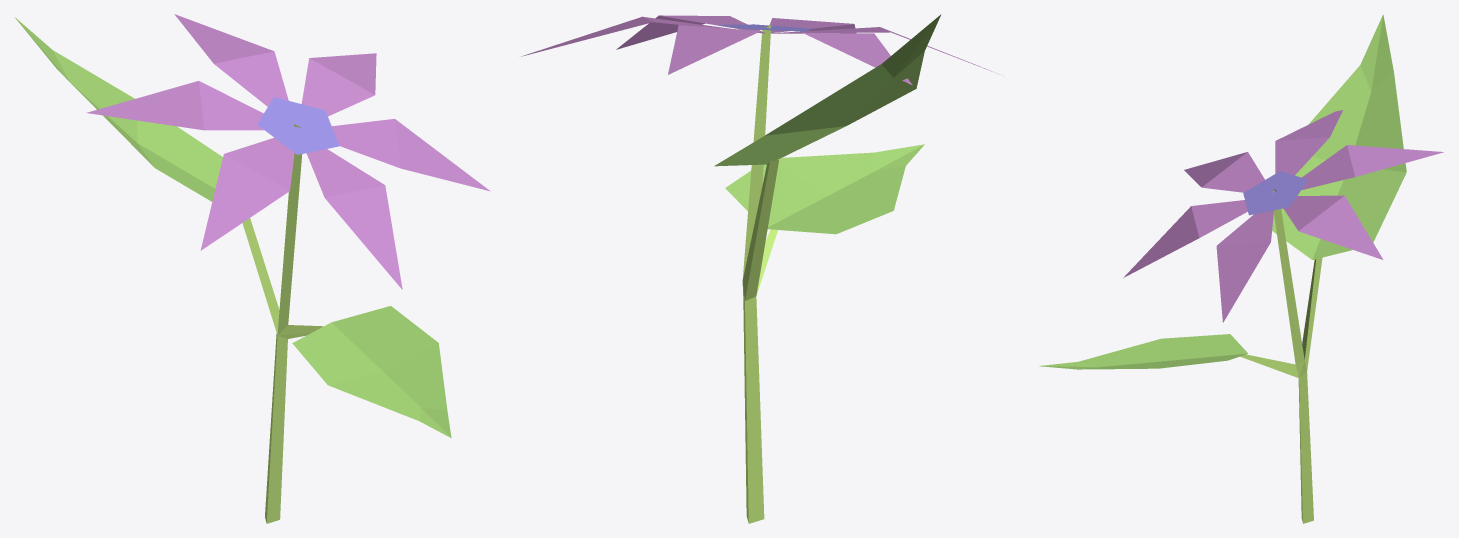
File: Flower_b_TwoS_09.fbx
3 renders of one model, left to right at view 1: azimuth 30°, elevation 25°; view 2: azimuth 150°, elevation 25°; view 3: azimuth 270°, elevation 25°, orthographic. The views are drawn at different scales.
Parts seen in each view (by area): view 1: Flower_b_TwoS_09; view 2: Flower_b_TwoS_09; view 3: Flower_b_TwoS_09.
Boxes of the visible parts, box(x1,y1,x2,y2) form: Flower_b_TwoS_09: box(14, 14, 490, 523); Flower_b_TwoS_09: box(521, 14, 1002, 523); Flower_b_TwoS_09: box(1039, 14, 1443, 523).
Size of the model in its own units: 0.4048 by 0.5319 by 0.4618.
